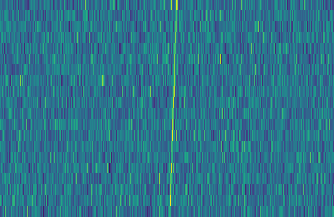signal: (165, 0, 180, 217)
